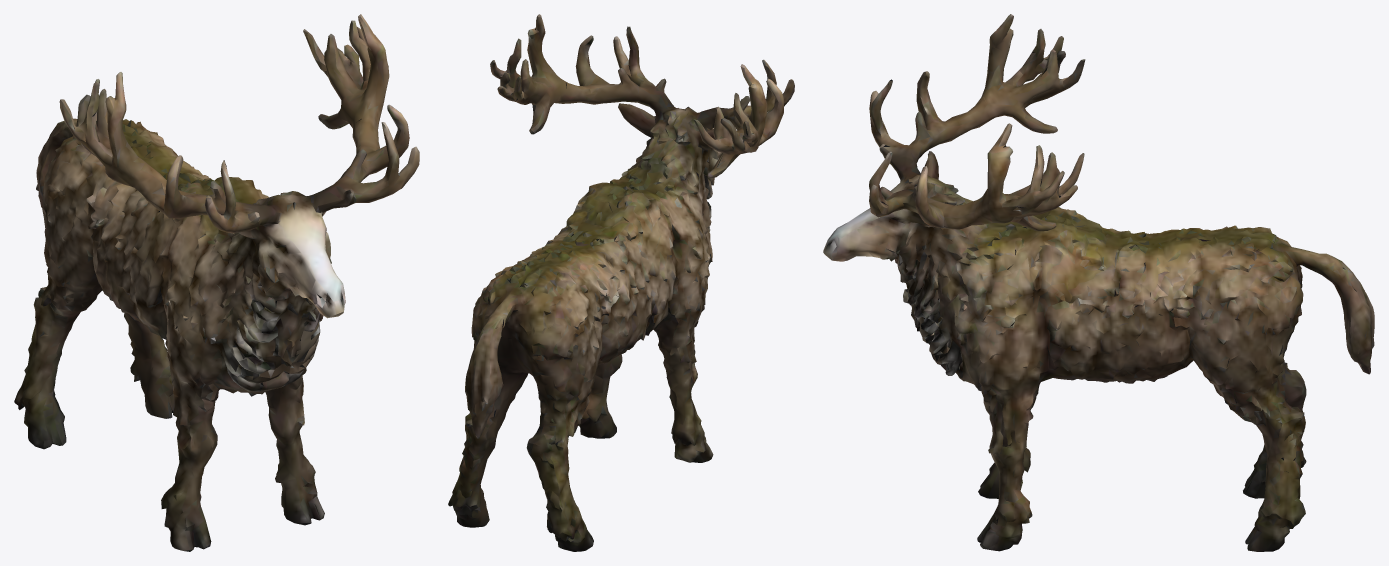
The model's file is antler-king.phone.glb.
3 views of the same model, side by side, from view 1: azimuth 30°, elevation 25°; view 2: azimuth 150°, elevation 25°; view 3: azimuth 270°, elevation 25° (orthographic). The views are drawn at different scales.
Parts seen in each view (by area): view 1: antler-king; view 2: antler-king; view 3: antler-king.
Boxes of the visible parts, x1=… form: antler-king: x1=14, y1=14, x2=419, y2=551; antler-king: x1=448, y1=14, x2=794, y2=551; antler-king: x1=823, y1=14, x2=1374, y2=551.
Bounding box in the file's own units: 2.4 × 3.6 × 4.
1 material, 1 textured.
